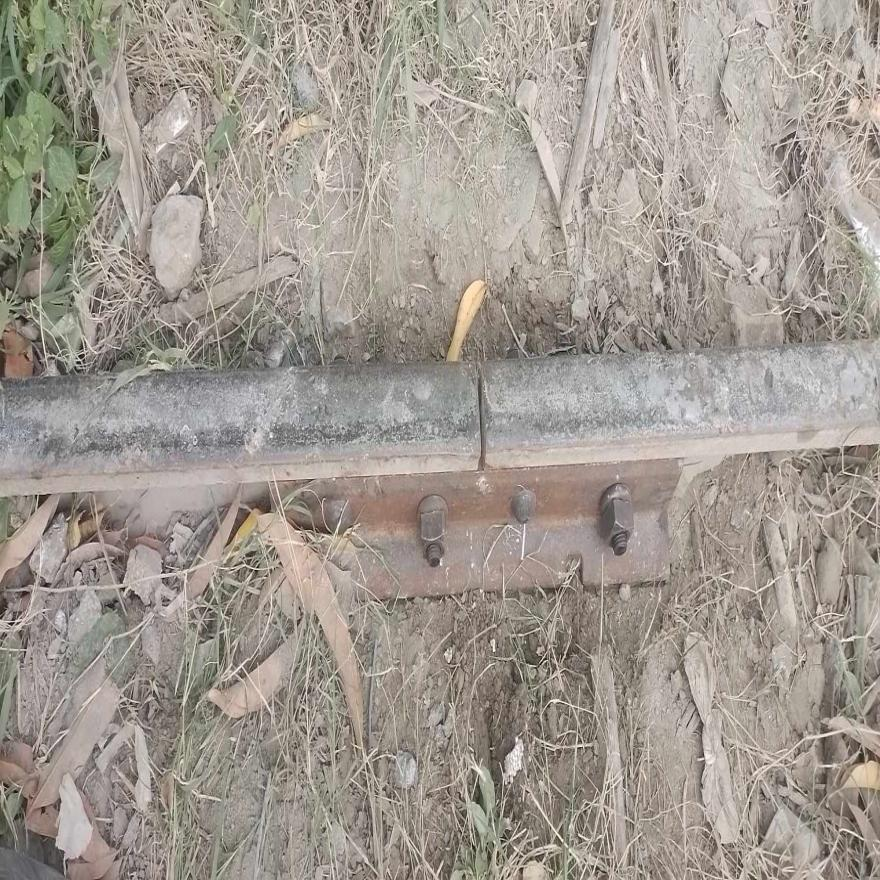railway-gap: (441, 336, 519, 502)
